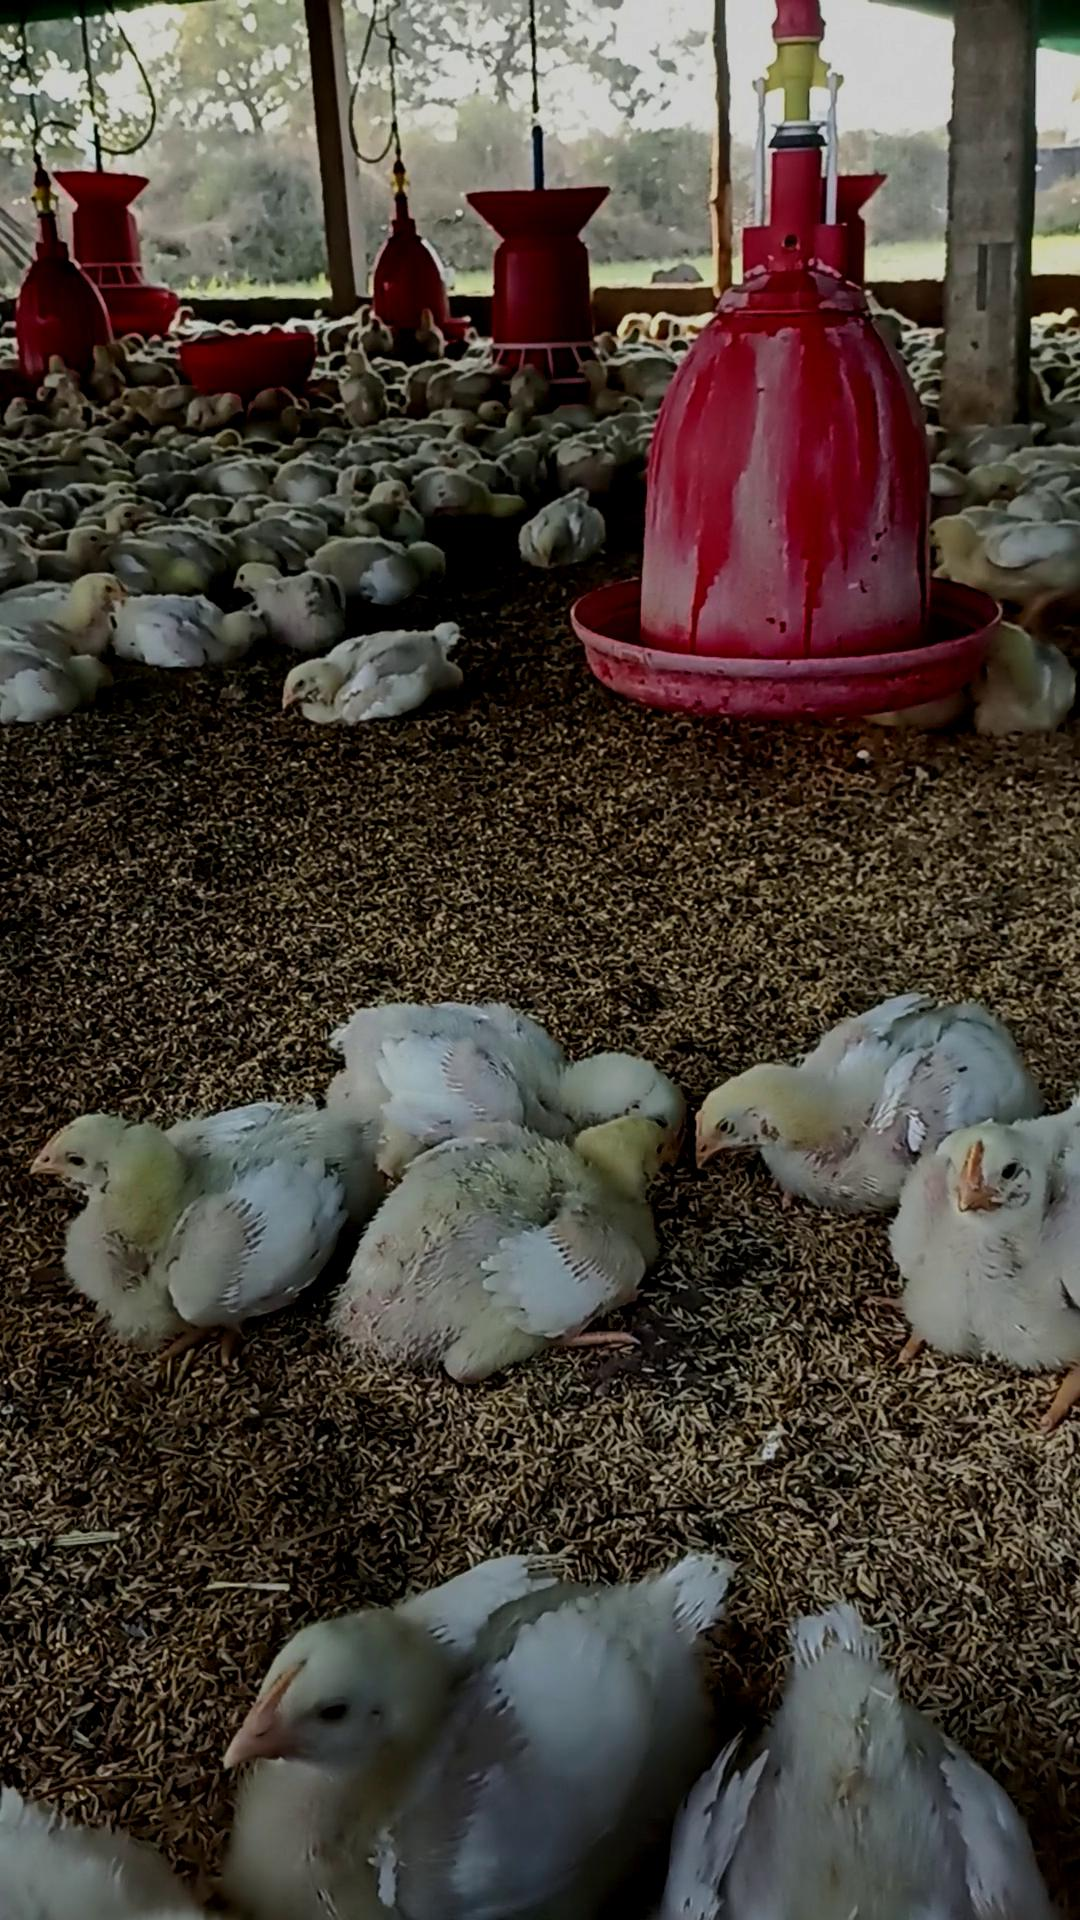Pollos: (216, 1540, 731, 1920), (344, 1106, 680, 1367), (696, 982, 1025, 1217), (21, 1104, 328, 1327), (909, 1133, 1065, 1367), (285, 612, 462, 725), (3, 571, 135, 675), (228, 553, 342, 626), (524, 487, 615, 568)
